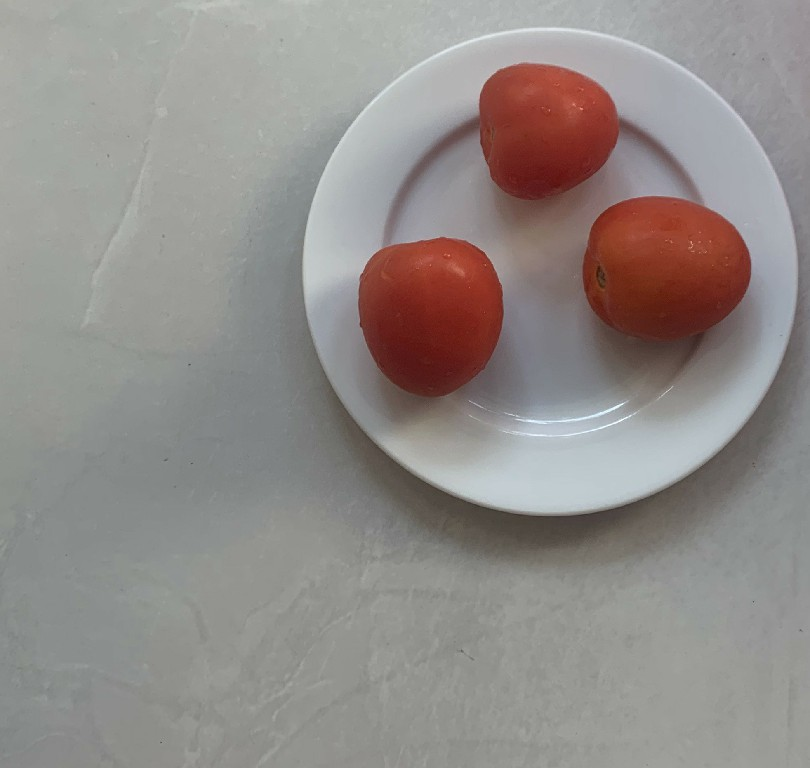OK: (350, 229, 511, 401), (573, 191, 749, 346), (474, 57, 622, 207)
